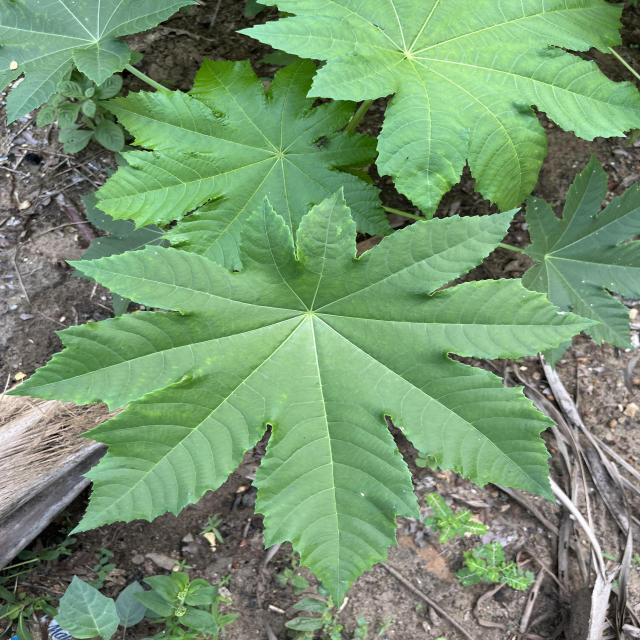Ricinus communis linn: (0, 183, 607, 616), (87, 52, 400, 279)
